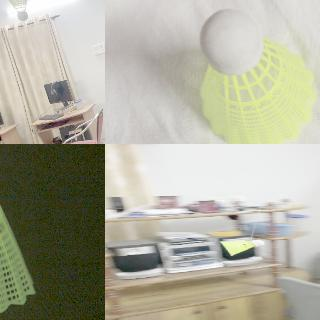shuttlecock: (198, 7, 316, 143), (0, 144, 34, 317), (219, 240, 263, 255), (4, 0, 30, 21)
